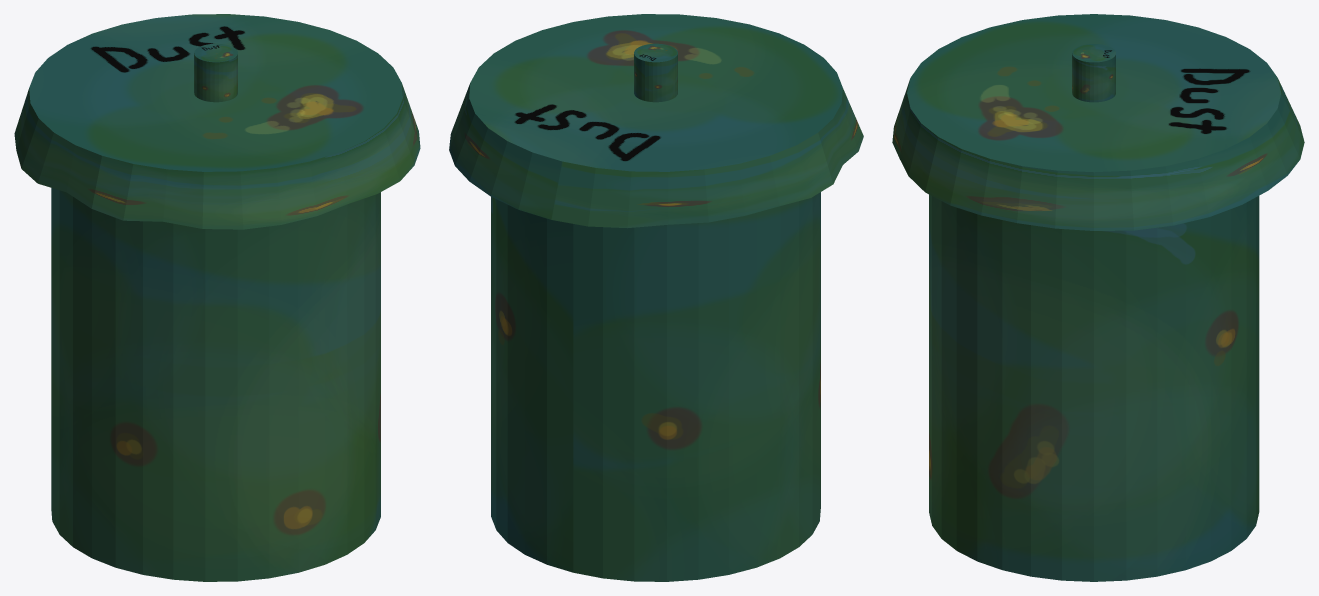
File: Dust1.fbx
3 renders of one model, left to right at view 1: azimuth 30°, elevation 25°; view 2: azimuth 150°, elevation 25°; view 3: azimuth 270°, elevation 25°, orthographic.
Parts seen in each view (by area): view 1: gomihuta; view 2: gomihuta; view 3: gomihuta.
Boxes of the visible parts, x1,y1,x2,y2 form: gomihuta: [14, 14, 420, 581]; gomihuta: [449, 14, 863, 581]; gomihuta: [892, 14, 1304, 581].
Size of the model in its own units: 373 by 460 by 374.
Materials: 1 (1 with a texture image).
